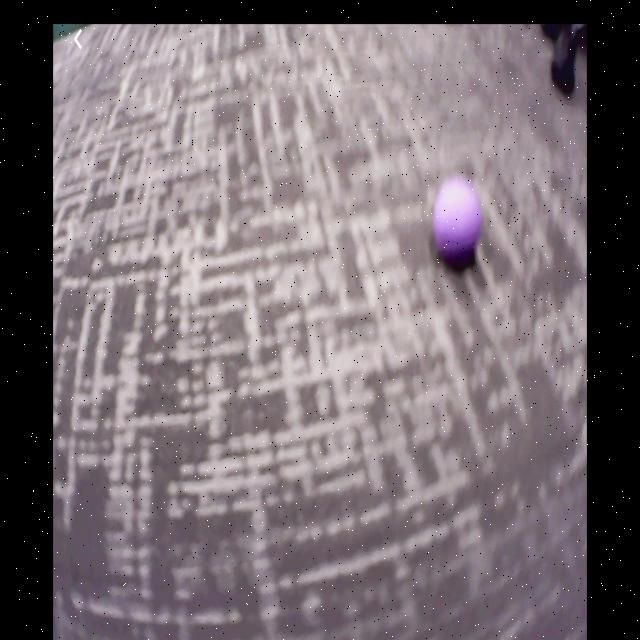ball: (433, 182, 481, 252)
